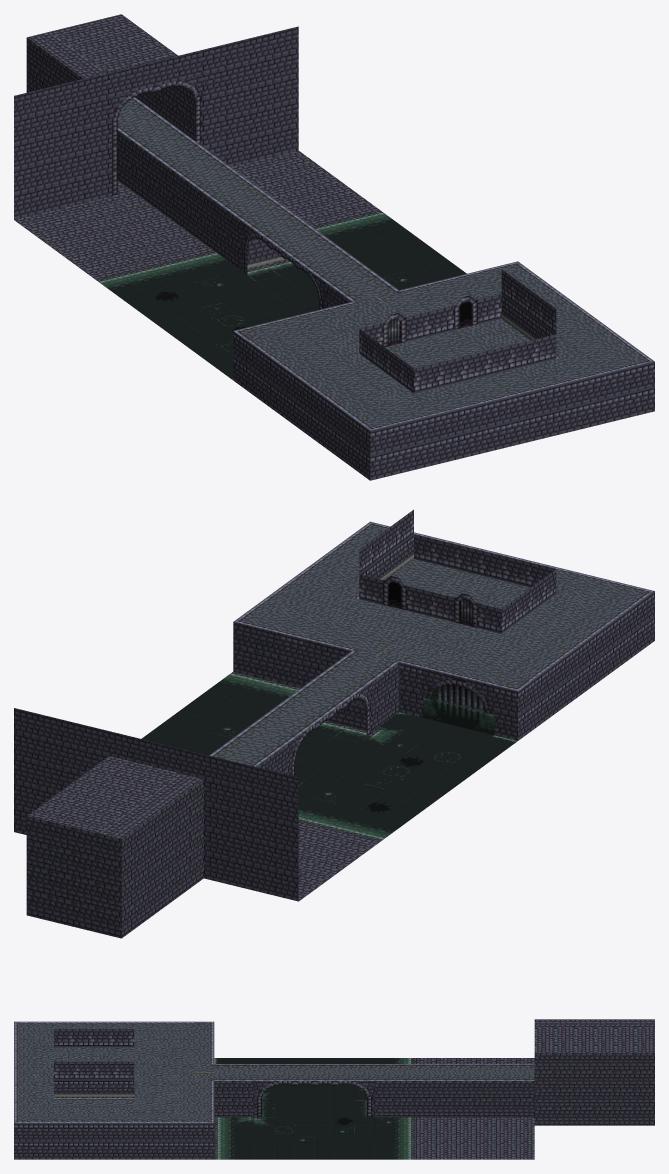
File: sprytileSewers.dae
The picture shows the model from 3 angles, top to bottom: view 1: azimuth 30°, elevation 25°; view 2: azimuth 150°, elevation 25°; view 3: azimuth 270°, elevation 25°; orthographic projection. The views are drawn at different scales.
Parts seen in each view (by area): view 1: Plane; view 2: Plane; view 3: Plane.
Boxes of the visible parts, x1,y1,x2,y2 form: Plane: (14, 14, 654, 480); Plane: (14, 509, 654, 938); Plane: (14, 1019, 654, 1159).
Size of the model in its own units: 6 by 16 by 2.5.
Materials: 1 (1 with a texture image).
